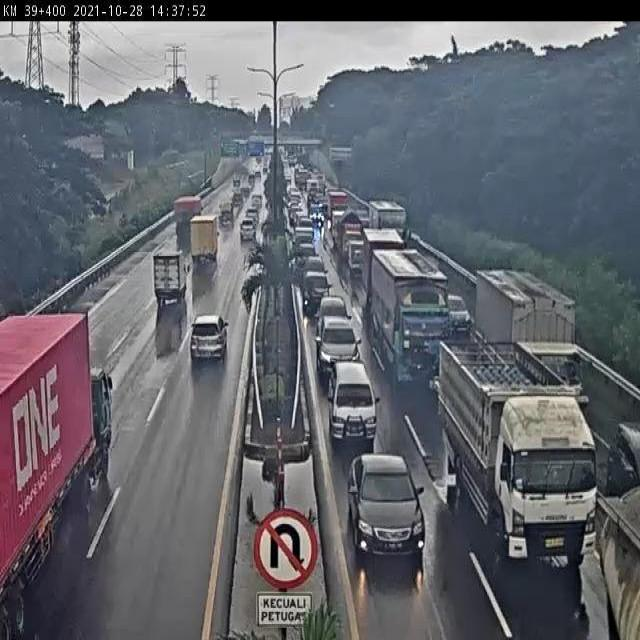big truck: (0, 301, 121, 635), (434, 332, 601, 568), (479, 272, 597, 420), (368, 244, 456, 391), (164, 193, 211, 244)
car: (344, 452, 453, 572), (184, 298, 231, 366), (318, 315, 361, 372), (444, 285, 475, 340), (304, 266, 340, 306), (320, 293, 361, 324)
small bus: (323, 364, 391, 437)
small truck: (139, 246, 211, 314), (185, 208, 227, 269)
